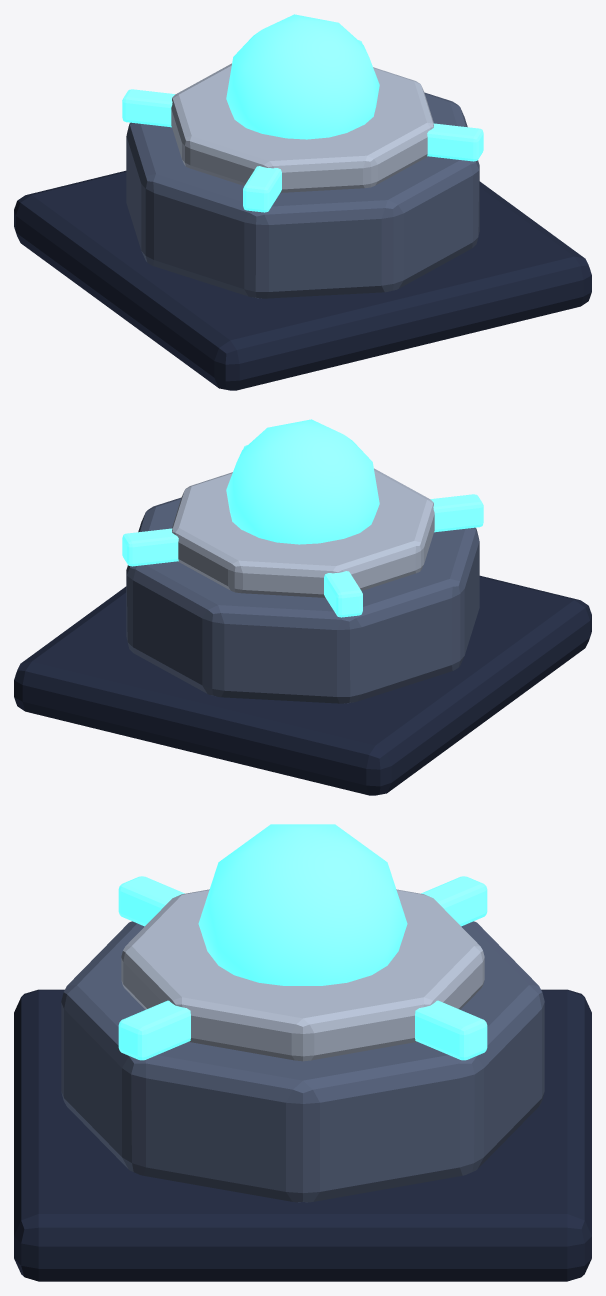
The model's file is mod_core.glb.
3 renders of one model, top to bottom at view 1: azimuth 30°, elevation 25°; view 2: azimuth 150°, elevation 25°; view 3: azimuth 270°, elevation 25°, orthographic. The views are drawn at different scales.
Parts seen in each view (by area): view 1: mod_core; view 2: mod_core; view 3: mod_core.
Boxes of the visible parts, x1=… form: mod_core: x1=14, y1=14, x2=591, y2=390; mod_core: x1=14, y1=419, x2=591, y2=795; mod_core: x1=14, y1=824, x2=591, y2=1281.
Size of the model in its own units: 0.94 by 0.61 by 0.94.
